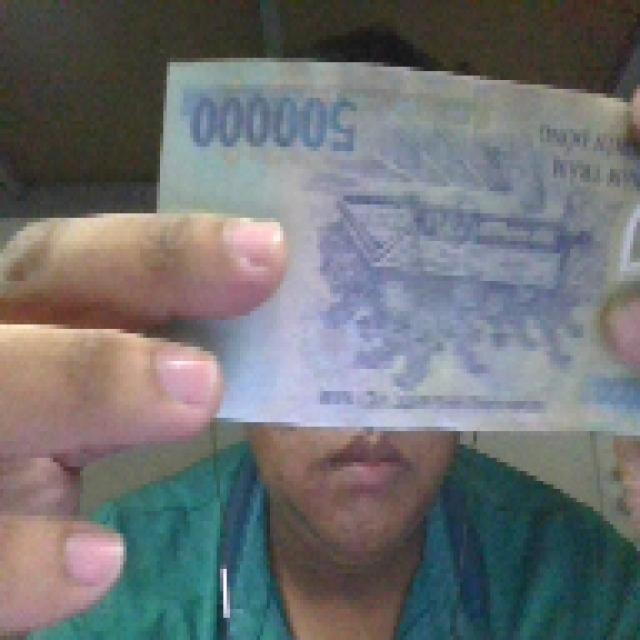500 000 VND: (145, 49, 632, 444)
